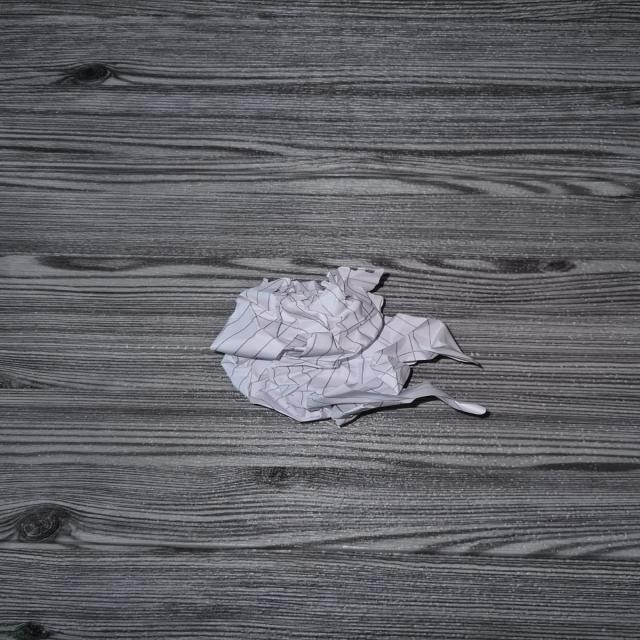Paper: (213, 258, 495, 419)
